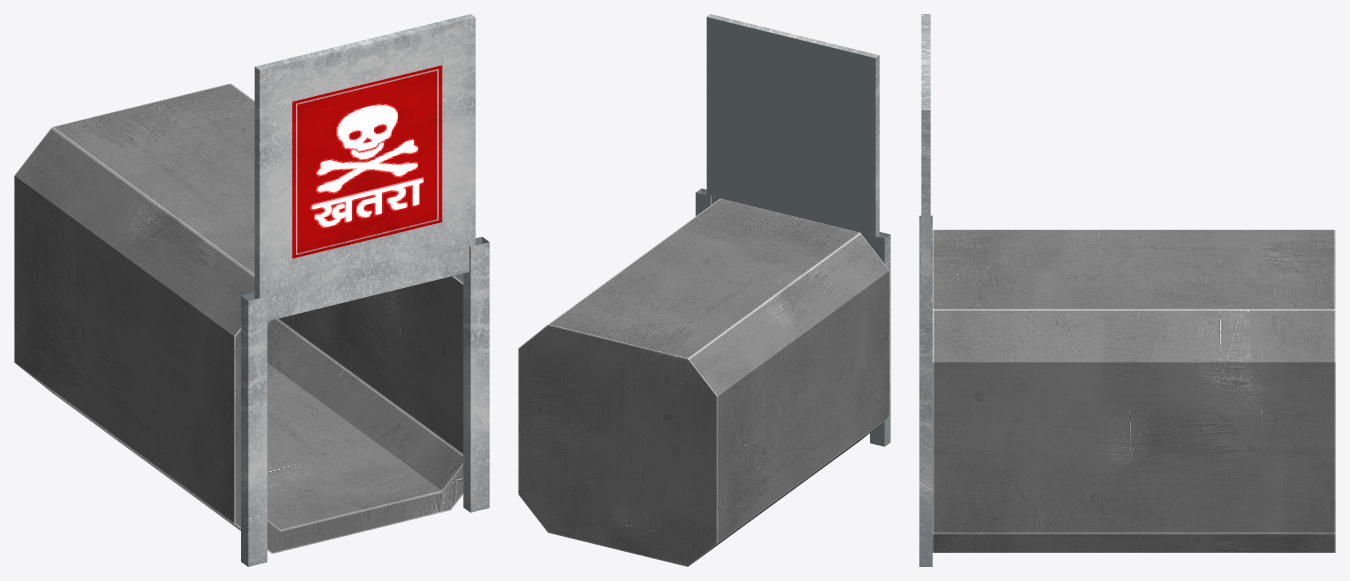
File: SM_Bear_Cage.fbx
3 renders of one model, left to right at view 1: azimuth 30°, elevation 25°; view 2: azimuth 150°, elevation 25°; view 3: azimuth 270°, elevation 25°, orthographic. The views are drawn at different scales.
Parts seen in each view (by area): view 1: SM_Bear_Cage, SM_Bear_Cage.001; view 2: SM_Bear_Cage, SM_Bear_Cage.001; view 3: SM_Bear_Cage, SM_Bear_Cage.001.
Boxes of the visible parts, x1,y1,x2,y2 form: SM_Bear_Cage: (14,83,489,566); SM_Bear_Cage.001: (254,14,475,321); SM_Bear_Cage: (518,188,890,566); SM_Bear_Cage.001: (706,14,879,244); SM_Bear_Cage: (919,215,1335,566); SM_Bear_Cage.001: (921,14,930,323).
Bounding box in the file's own units: 4000 × 7408 × 6200.
1 material, 1 textured.
